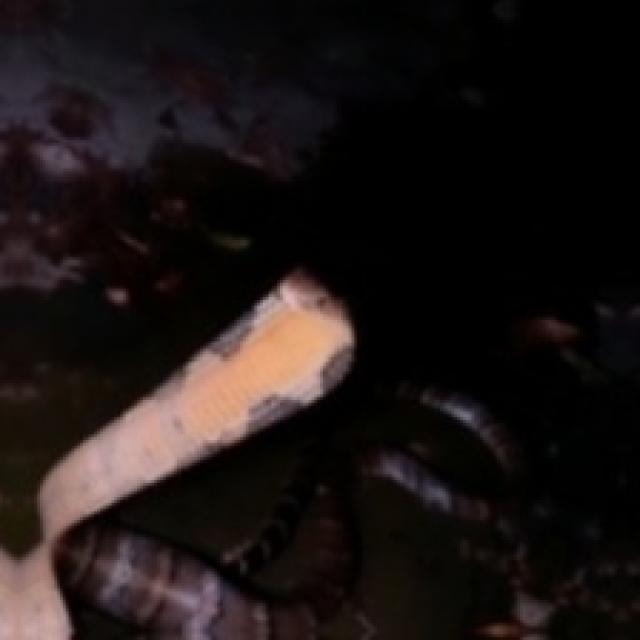king cobra: (3, 271, 551, 637)
